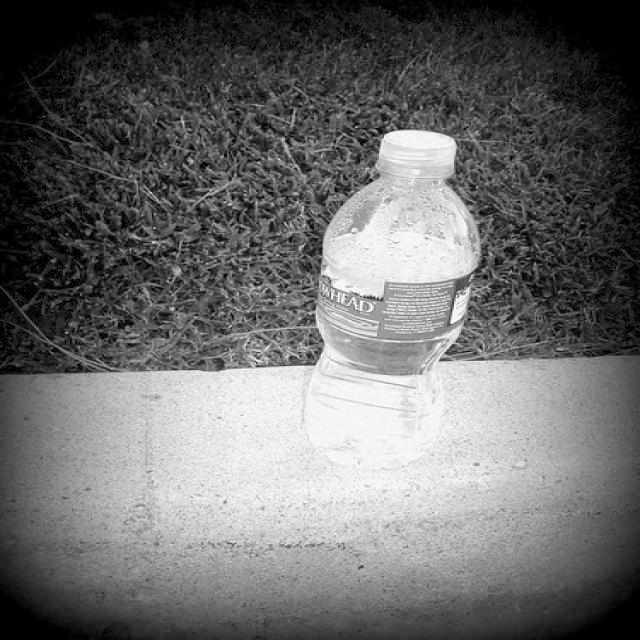bottle: (303, 130, 481, 470)
